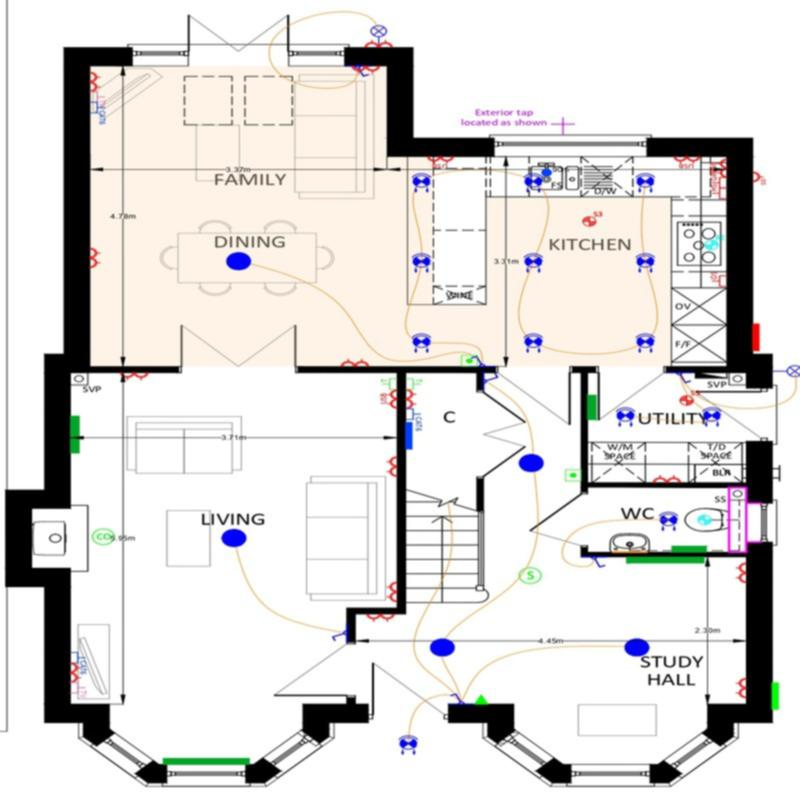BT Entry Point: (475, 694, 486, 704)
Cat 6 Data Socket: (406, 408, 422, 431), (70, 652, 86, 675), (90, 102, 105, 125)
Ceiling Mounted Continuous Extract FanWith Boost Mode Activated By Light Switch: (698, 514, 711, 525)
Ceiling Mounted Continuous Extract FanWith Local Boost Switch: (679, 390, 700, 406), (582, 211, 602, 227)
Co-Ax TV Socket: (90, 91, 105, 107), (71, 683, 86, 699)
Consumer Unit: (695, 373, 727, 379)
Double Socket: (367, 613, 394, 623), (120, 372, 147, 381), (734, 563, 746, 583), (385, 582, 397, 602), (352, 66, 381, 74), (652, 474, 680, 482), (90, 248, 101, 268), (735, 678, 746, 698), (341, 358, 368, 366), (364, 40, 393, 47), (387, 457, 397, 477), (406, 390, 417, 408), (70, 664, 81, 682), (90, 72, 100, 91), (717, 159, 727, 177)
Electric Meter Box: (752, 323, 760, 351)
External Wall Light: (773, 365, 800, 377), (371, 25, 387, 43)
Gas Meter Box: (771, 682, 779, 709)
Grid Switch: (711, 163, 726, 187)
Hob Switch: (711, 183, 726, 199)
Light Switch: (449, 693, 465, 704), (470, 355, 485, 366), (332, 631, 347, 642), (485, 373, 498, 384), (677, 373, 691, 383), (357, 66, 369, 77), (592, 557, 605, 567)
Low Energy Downlighter: (411, 173, 431, 193), (635, 173, 655, 193), (412, 333, 431, 354), (659, 511, 678, 532), (399, 735, 418, 756), (412, 253, 431, 273), (524, 173, 543, 193), (524, 253, 543, 273), (524, 333, 543, 353), (636, 253, 655, 273), (636, 333, 655, 353), (702, 407, 721, 427), (617, 407, 635, 427)
Low Energy Pendant Light: (225, 252, 252, 271), (623, 638, 650, 657), (518, 453, 544, 472), (221, 529, 246, 548), (430, 639, 455, 656)
Mains Wired Smoke Detector: (518, 567, 542, 583)
Outside Socket: (753, 172, 766, 186)
Outside Tap: (551, 117, 575, 134)
Oven Switch: (711, 272, 726, 288)
Programmable Room Thermostat: (566, 469, 580, 481), (462, 355, 477, 365)
Radiator: (162, 758, 249, 765), (625, 557, 703, 563), (70, 416, 80, 454), (587, 395, 597, 420), (672, 546, 707, 552)
Recirculating Extractor Fan: (705, 235, 725, 250)
Telephone Socket: (406, 377, 424, 390), (381, 378, 397, 389)
USB Double Socket: (380, 390, 397, 409), (675, 157, 700, 169), (427, 157, 453, 168)
Underfloor Heating Manifold: (406, 421, 413, 450)
Water Entry Position: (541, 168, 552, 176)
